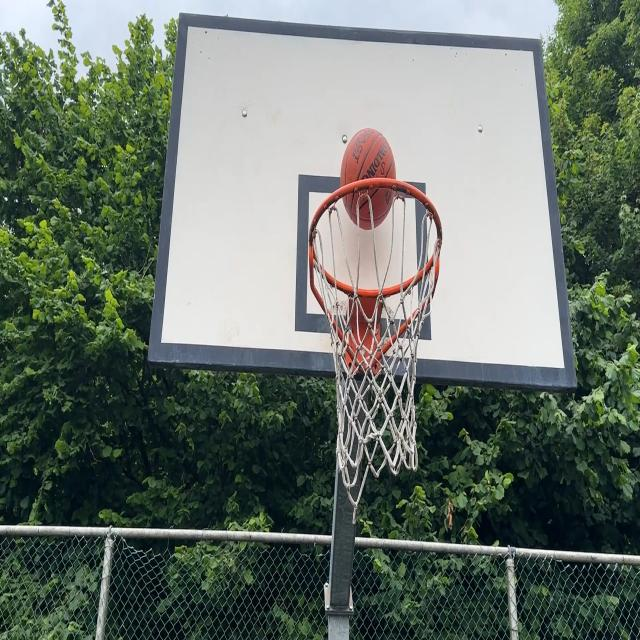Basketball: (342, 126, 396, 228)
